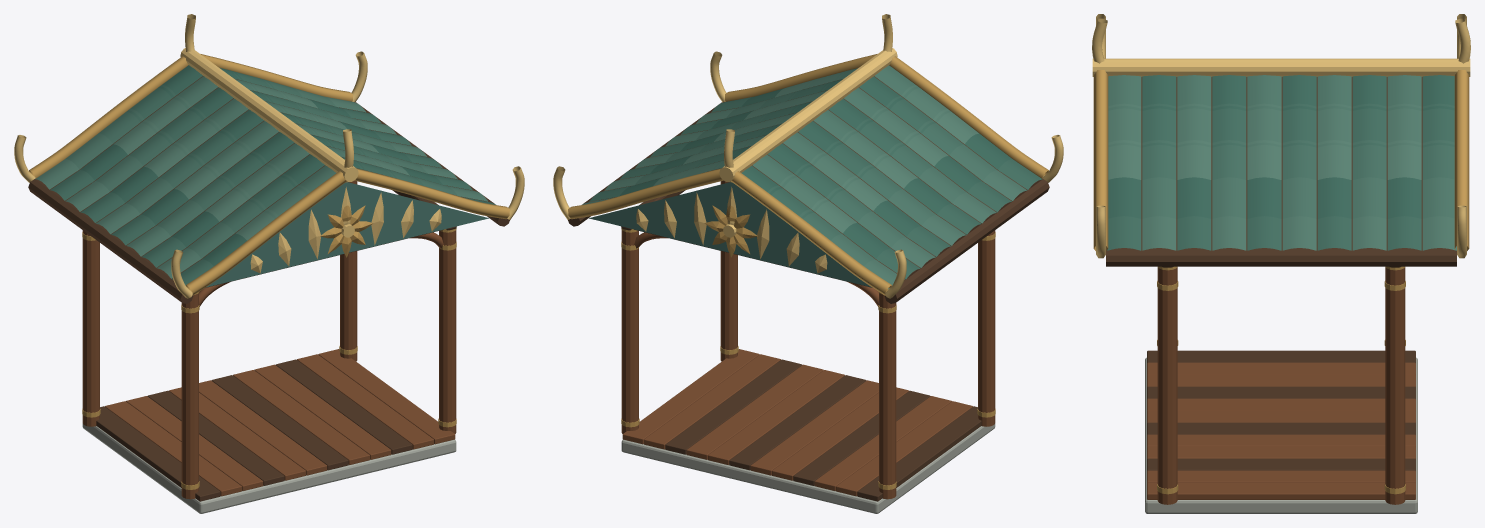
The model's file is lumphini-pavilion.glb.
3 views of the same model, side by side, from view 1: azimuth 30°, elevation 25°; view 2: azimuth 150°, elevation 25°; view 3: azimuth 270°, elevation 25° (orthographic). The views are drawn at different scales.
Visible parts, largest first — view 1: PavilionRoofMesh, PavilionBaseMesh, PavilionSupportsMesh; view 2: PavilionRoofMesh, PavilionBaseMesh, PavilionSupportsMesh; view 3: PavilionRoofMesh, PavilionBaseMesh, PavilionSupportsMesh.
Boxes of the visible parts, x1,y1,x2,y2 form: PavilionRoofMesh: (14,14,524,306); PavilionBaseMesh: (82,349,456,513); PavilionSupportsMesh: (82,180,456,499); PavilionRoofMesh: (553,14,1063,306); PavilionBaseMesh: (621,349,995,513); PavilionSupportsMesh: (621,180,995,499); PavilionRoofMesh: (1092,14,1470,267); PavilionBaseMesh: (1145,350,1417,513); PavilionSupportsMesh: (1157,266,1405,504).
Bounding box in the file's own units: 4.1 × 4.1 × 3.33.
